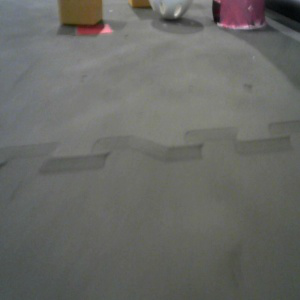right: (212, 1, 268, 30)
